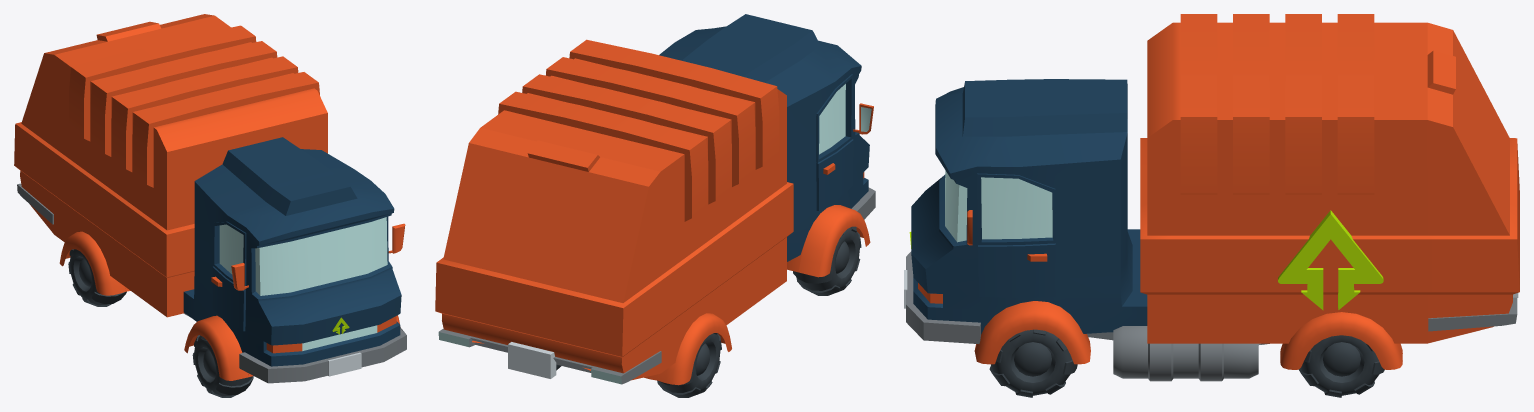
The model's file is Camión_01.fbx.
3 renders of one model, left to right at view 1: azimuth 30°, elevation 25°; view 2: azimuth 150°, elevation 25°; view 3: azimuth 270°, elevation 25°, orthographic. The views are drawn at different scales.
Parts seen in each view (by area): view 1: Camión_01; view 2: Camión_01; view 3: Camión_01.
Part boxes in pixels (x1,y1,x2,y2): Camión_01: (14,14,406,397); Camión_01: (435,14,875,397); Camión_01: (904,14,1519,397).
Bounding box in the file's own units: 392 × 490 × 942.
